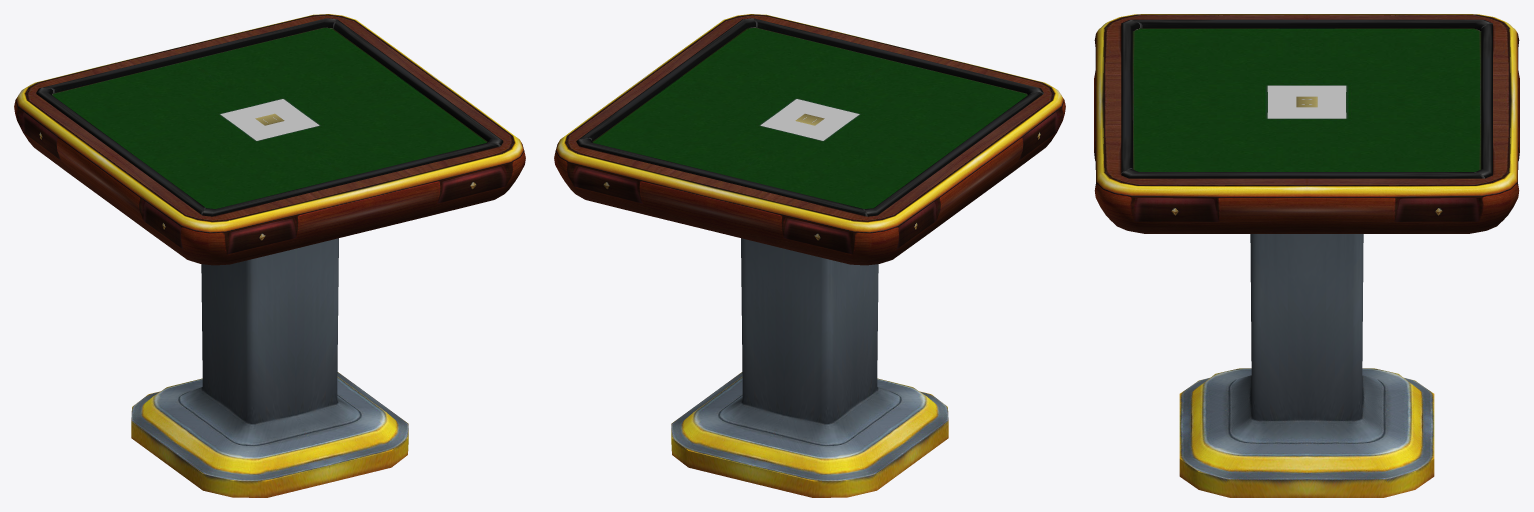
Rendered from desk.FBX.
The picture shows the model from 3 angles, left to right: view 1: azimuth 30°, elevation 25°; view 2: azimuth 150°, elevation 25°; view 3: azimuth 270°, elevation 25°; orthographic projection. The views are drawn at different scales.
Parts seen in each view (by area): view 1: zhuozuo, Object004; view 2: zhuozuo, Object004; view 3: zhuozuo, Object004.
Part boxes in pixels (<box>): zhuozuo: <box>14,14,525,497</box>; Object004: <box>220,99,319,140</box>; zhuozuo: <box>554,14,1065,497</box>; Object004: <box>760,99,859,140</box>; zhuozuo: <box>1094,14,1519,497</box>; Object004: <box>1267,85,1346,118</box>.
Bounding box in the file's own units: 87.21 × 78.37 × 87.21.
